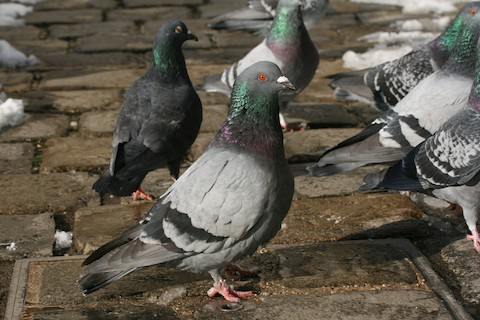pigeon: (75, 56, 297, 308), (308, 31, 474, 233), (89, 16, 203, 213), (320, 5, 475, 148), (192, 5, 328, 133)
